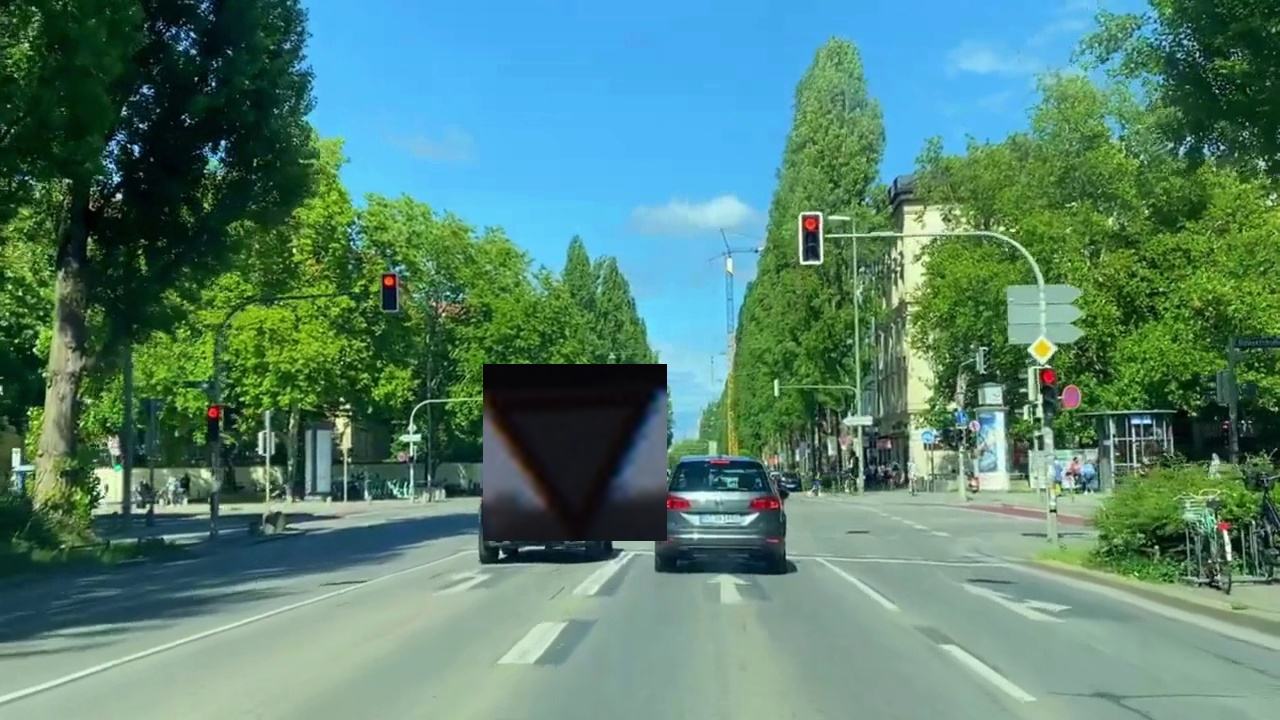Yield: (483, 364, 667, 541)
